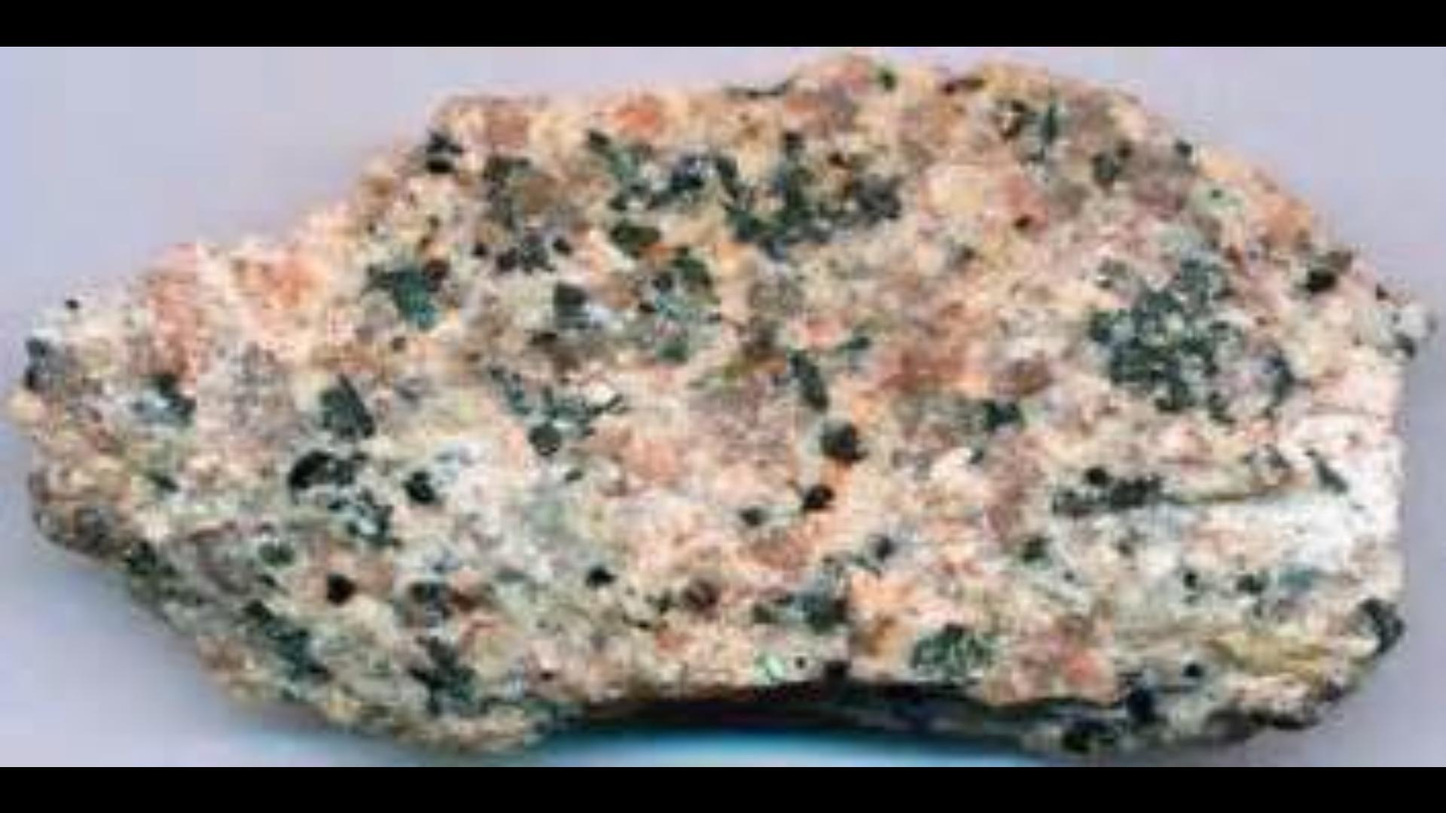rock: (12, 54, 1421, 750)
